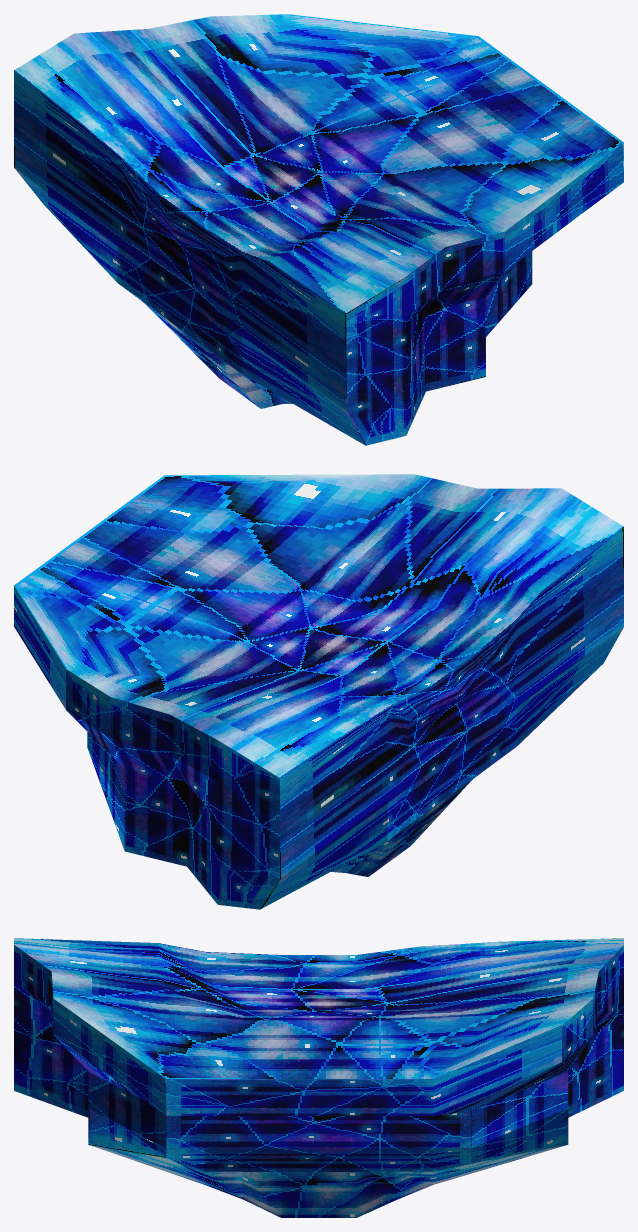
The model's file is VarandaGelo.glb.
The picture shows the model from 3 angles, top to bottom: view 1: azimuth 30°, elevation 25°; view 2: azimuth 150°, elevation 25°; view 3: azimuth 270°, elevation 25°; orthographic projection. The views are drawn at different scales.
Parts seen in each view (by area): view 1: BlocoCristal.006; view 2: BlocoCristal.006; view 3: BlocoCristal.006.
Boxes of the visible parts, x1,y1,x2,y2 form: BlocoCristal.006: (14,14,623,445); BlocoCristal.006: (14,474,623,909); BlocoCristal.006: (14,938,623,1217).
Bounding box in the file's own units: 4.84 × 3 × 7.57.
Materials: 1 (1 with a texture image).
